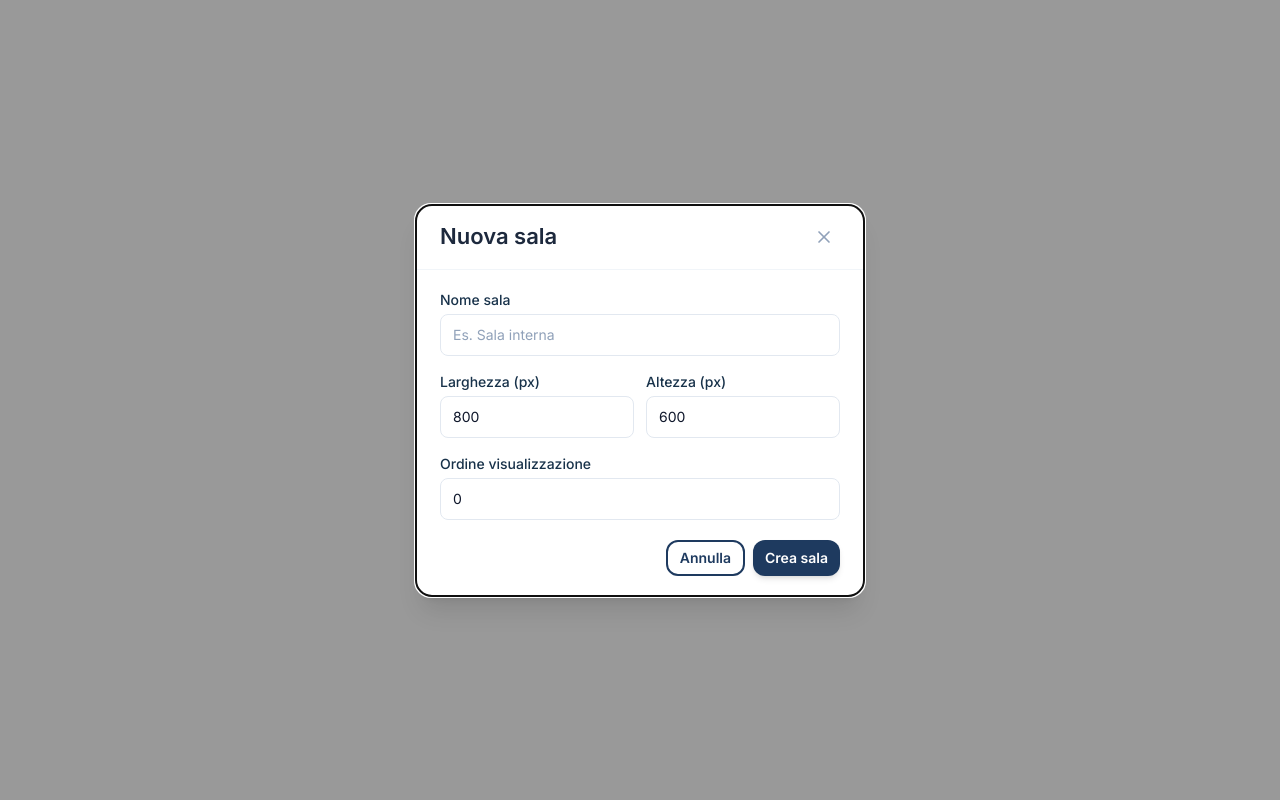
Test: Servizio modals — guard modifiche non salvate › RoomConfigModal: modifica nome e Annulla → modale conferma discard
In the field labelled "Nome sala": (640,334) x1=440 y1=314 x2=840 y2=356, type "Sala test"
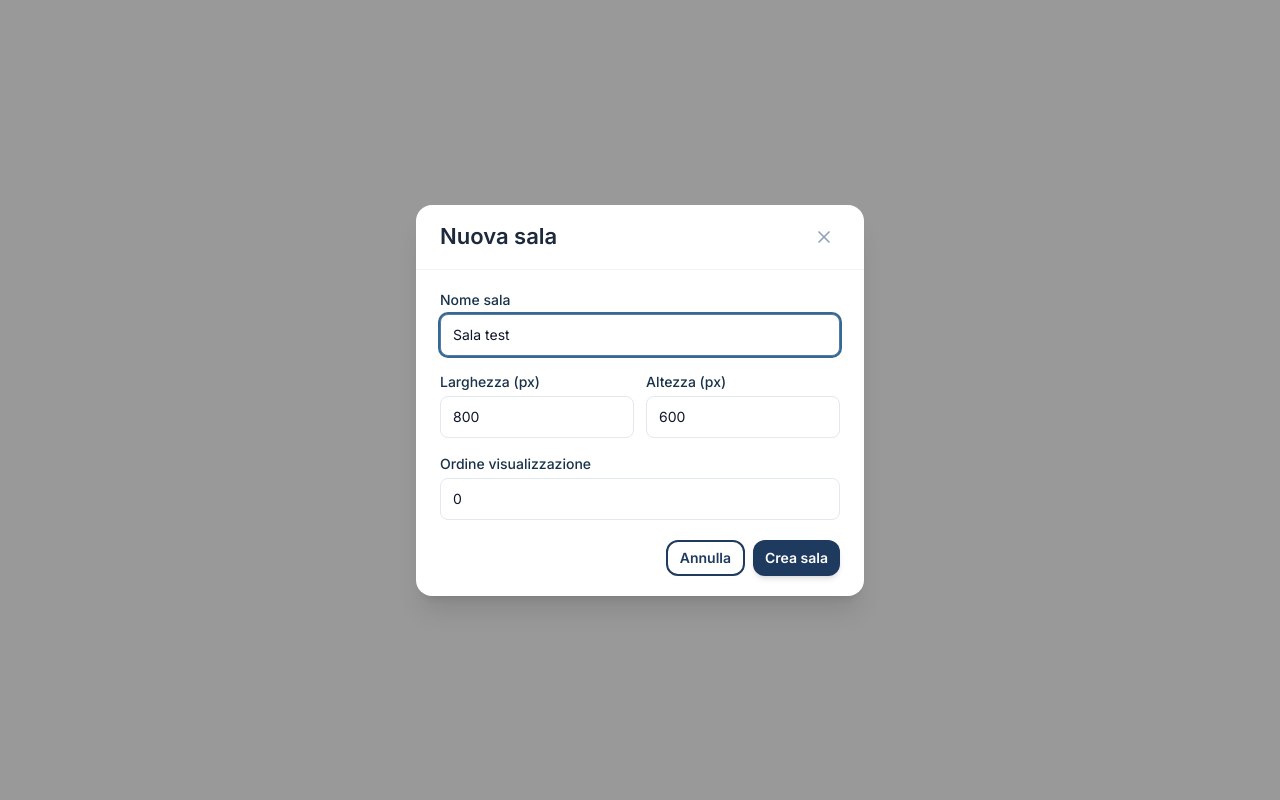
Click the button "Annulla": (705,558) x1=666 y1=540 x2=745 y2=576
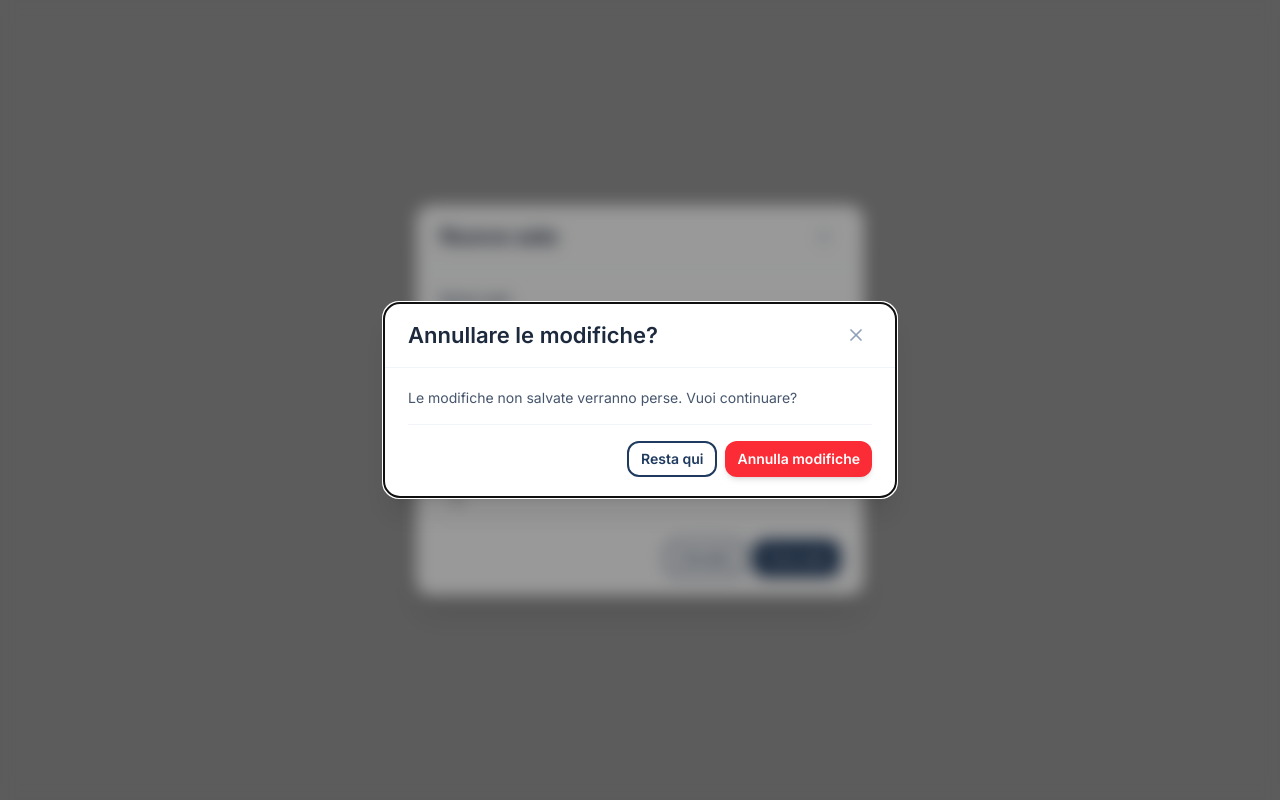
Now the heading "Annullare le modifiche?" is shown, box x1=408 y1=321 x2=658 y2=349
Now the text "Le modifiche non salvate verranno perse. Vuoi continuare?" is shown, box x1=408 y1=389 x2=797 y2=406
